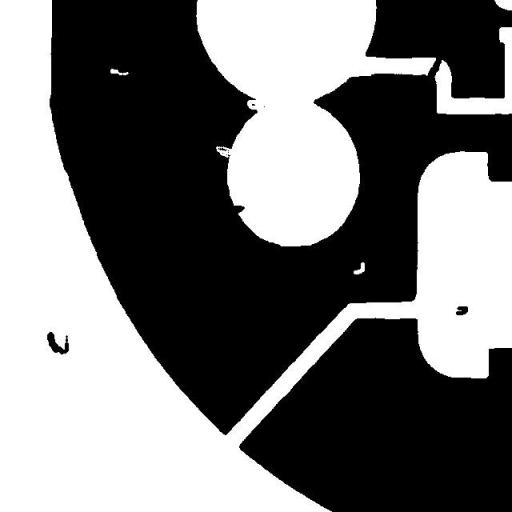copper: (39, 324, 76, 362), (448, 298, 475, 322)
mousebite: (239, 91, 274, 119), (208, 138, 242, 166)
pin-hole: (346, 254, 372, 282), (102, 61, 136, 82)
short: (416, 48, 449, 88)
spur: (209, 194, 252, 222)
